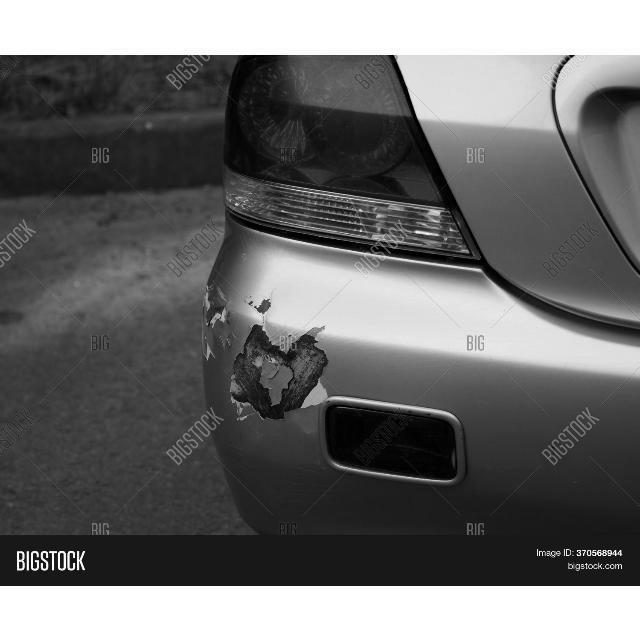rear-bumper-dent: (175, 235, 640, 541)
